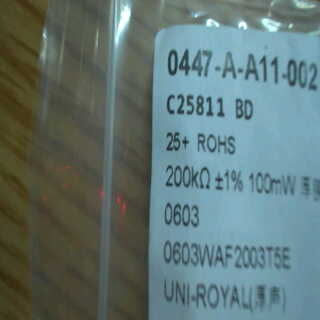200kR: (162, 162, 215, 191)
